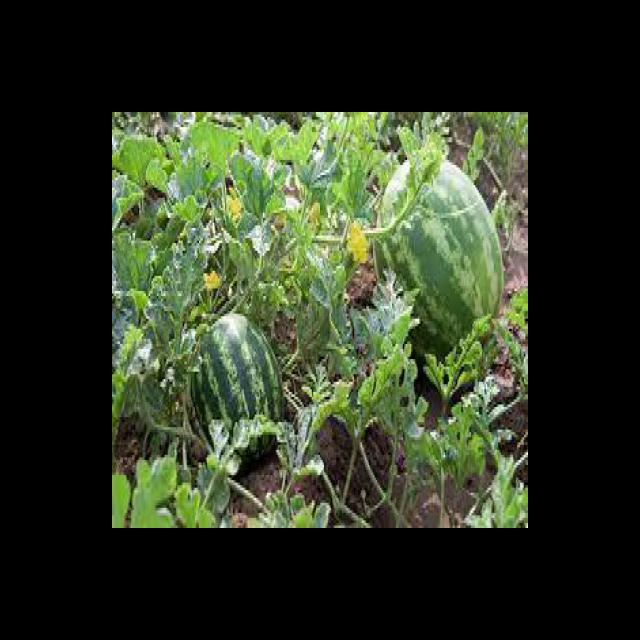watermelon: (372, 158, 503, 363), (186, 313, 283, 463)
